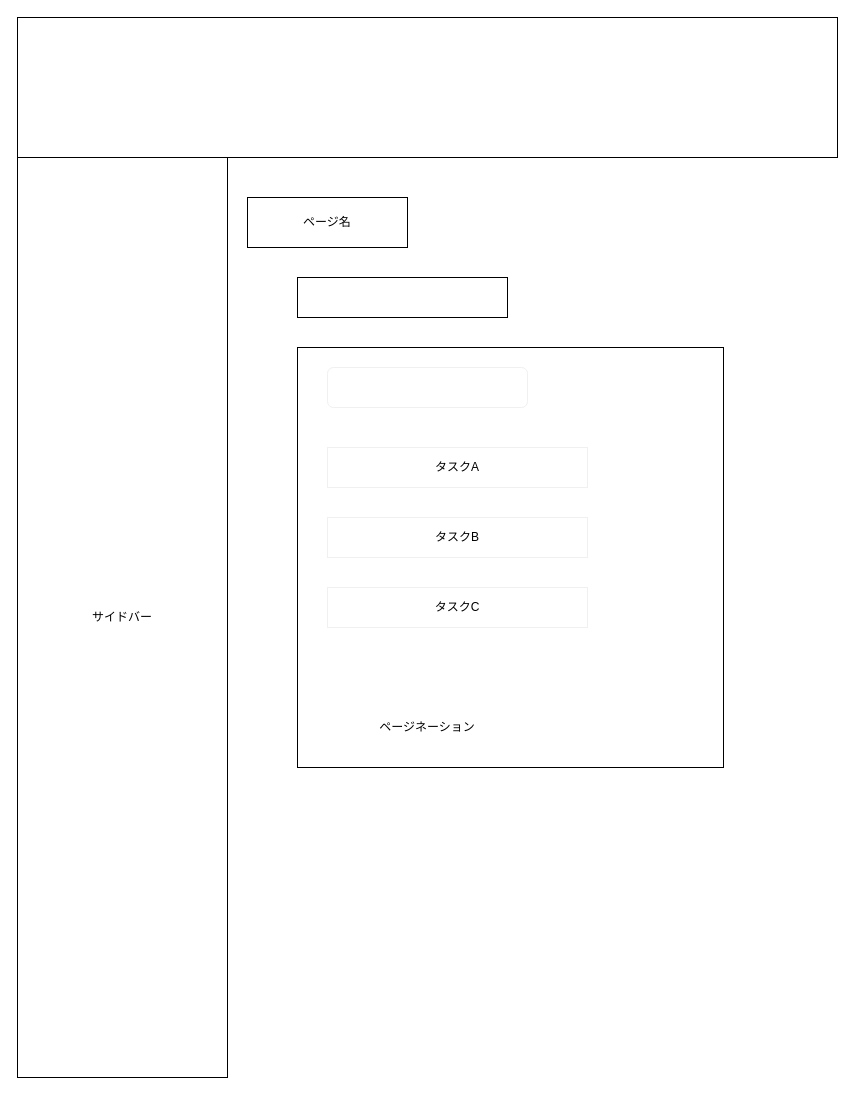
Image size: 855x1095. Some labels were removed from this diagram. Each missing label, with the box of its shape:
カテゴリ検索: (326, 366, 528, 408)
タスク一覧: (296, 276, 508, 318)
ヘッダー: (16, 16, 838, 158)
